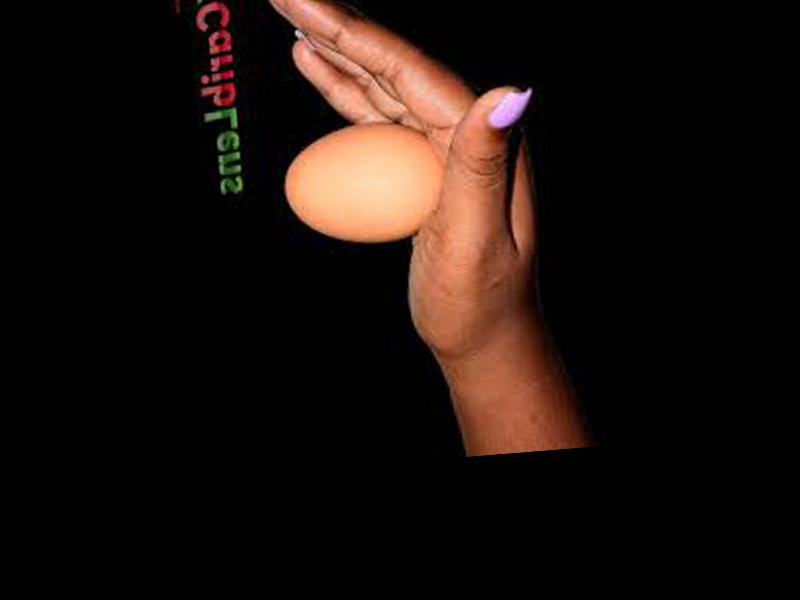Eggs: (279, 116, 446, 250)
